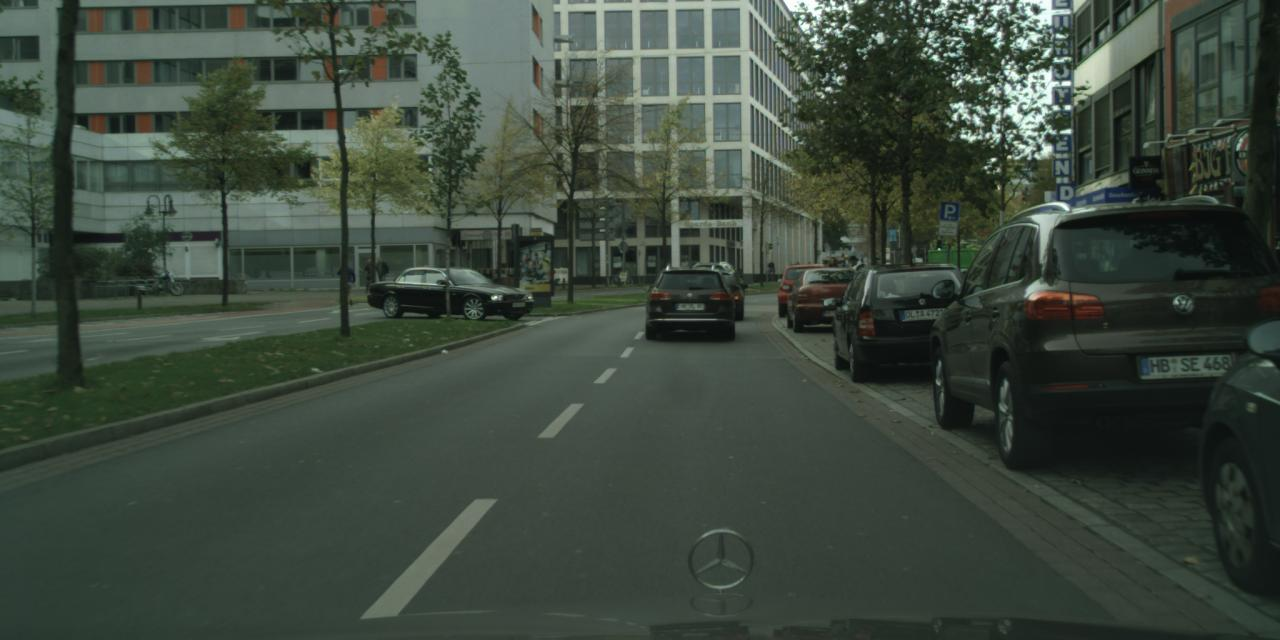ped: (848, 254, 869, 310), (338, 259, 356, 305), (823, 256, 841, 301), (372, 255, 387, 291), (362, 257, 376, 293)
